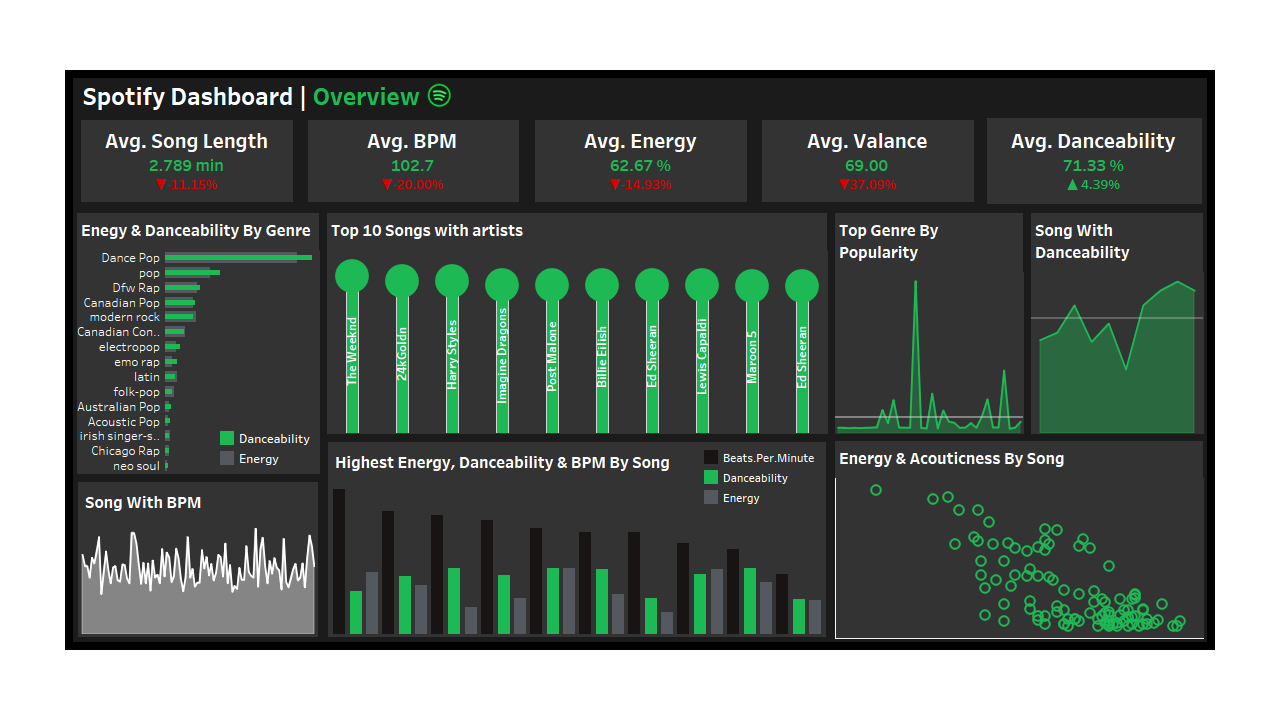

The page's visual inventory and layout, read from the dashboard file:
{"tool":"tableau","page":{"name":"Dashboard 1","canvas":[1150,580],"ordinal":0},"visuals":[{"type":"title","box":[8,8,1134,34]},{"type":"image","param":"Image/icons8-spotify-logo-50.png","box":[357,13,34,24]},{"type":"worksheet","title":"Avg Song Length KPI","mark":"Automatic","box":[8,42,227,97]},{"type":"worksheet","title":"Avg BPM KPI","mark":"Automatic","box":[235,42,227,97]},{"type":"worksheet","title":"Avg Energy KPI ","mark":"Automatic","box":[462,42,227,97]},{"type":"worksheet","title":"Avg Valance KPI","mark":"Automatic","box":[689,42,227,97]},{"type":"worksheet","title":"Avg Danceability KPI","mark":"Automatic","box":[916,42,226,97]},{"type":"worksheet","title":"Enegy & Danceability By Genre","mark":"Bar","rows":["top genre"],"cols":["energy","danceability"],"box":[8,139.3,250.3,267.5]},{"type":"worksheet","title":"Top 10 Songs with artists","mark":"Circle","rows":["popularity","popularity"],"cols":["title"],"box":[258.3,139.3,507.7,228.1]},{"type":"worksheet","title":"Top Genre By Popularity","mark":"Area","rows":["popularity","popularity"],"cols":["top genre"],"box":[766,139.3,196,228.1]},{"type":"worksheet","title":"Song With Danceability","mark":"Area","rows":["danceability","danceability"],"cols":["title"],"box":[962,139.3,180,228.1]},{"type":"legend","title":"Enegy & Danceability By Genre","param":"[federated.05x0dyv08d8dwj1crvpak1ultpk5].[:Measure Names]","box":[152,358,99,45]},{"type":"worksheet","title":"Highest Energy, Danceability & BPM By Song","mark":"Automatic","cols":["title"],"box":[258.3,367.4,507.7,204.6]},{"type":"worksheet","title":"Energy & Acouticness By Song","mark":"Automatic","rows":["acousticness"],"cols":["energy"],"box":[766,367.4,376,204.6]},{"type":"legend","title":"Highest Energy, Danceability & BPM By Song","param":"[federated.05x0dyv08d8dwj1crvpak1ultpk5].[:Measure Names]","box":[636,377,127,64]},{"type":"worksheet","title":"Song With BPM","mark":"Area","rows":["beats.per.minute","beats.per.minute"],"cols":["title"],"box":[8,406.8,250.3,165.2]}]}

Visuals, with their boxes on the page's 1150x580 design canvas (x1, y1, x2, y2). These are canvas units, not pixel positions in the 1280x720 screenshot, which may show the page scaled, cropped or inside an application window:
title: [left=8, top=8, right=1142, bottom=42]
image: [left=357, top=13, right=391, bottom=37]
"Avg Song Length KPI" worksheet: [left=8, top=42, right=235, bottom=139]
"Avg BPM KPI" worksheet: [left=235, top=42, right=462, bottom=139]
"Avg Energy KPI " worksheet: [left=462, top=42, right=689, bottom=139]
"Avg Valance KPI" worksheet: [left=689, top=42, right=916, bottom=139]
"Avg Danceability KPI" worksheet: [left=916, top=42, right=1142, bottom=139]
"Enegy & Danceability By Genre" worksheet (Bar marks): [left=8, top=139, right=258, bottom=407]
"Top 10 Songs with artists" worksheet (Circle marks): [left=258, top=139, right=766, bottom=367]
"Top Genre By Popularity" worksheet (Area marks): [left=766, top=139, right=962, bottom=367]
"Song With Danceability" worksheet (Area marks): [left=962, top=139, right=1142, bottom=367]
"Enegy & Danceability By Genre" legend: [left=152, top=358, right=251, bottom=403]
"Highest Energy, Danceability & BPM By Song" worksheet: [left=258, top=367, right=766, bottom=572]
"Energy & Acouticness By Song" worksheet: [left=766, top=367, right=1142, bottom=572]
"Highest Energy, Danceability & BPM By Song" legend: [left=636, top=377, right=763, bottom=441]
"Song With BPM" worksheet (Area marks): [left=8, top=407, right=258, bottom=572]
